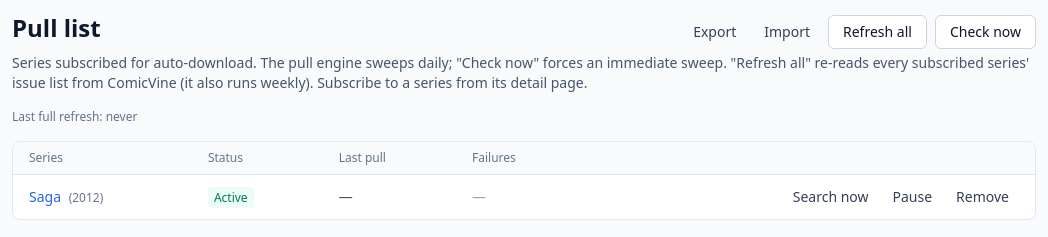
pull-list page › pauses a series
The width and height of the screenshot is (1048, 237).
Click the button "Pause" at (912, 197), box [882,183,942,211]
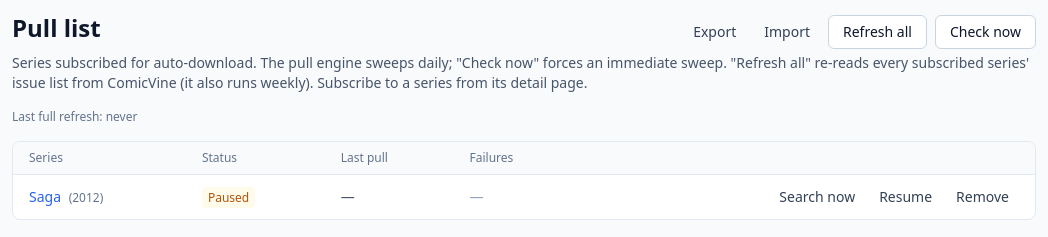
Now the text "Paused" is shown, box [202,187,255,208]
